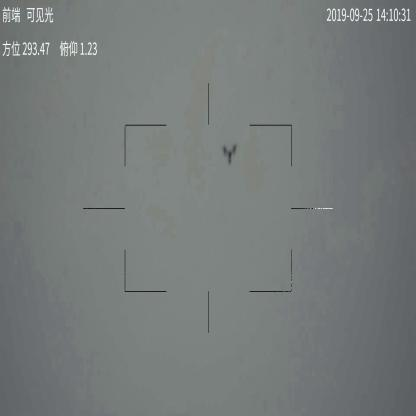uav: (221, 140, 239, 165)
